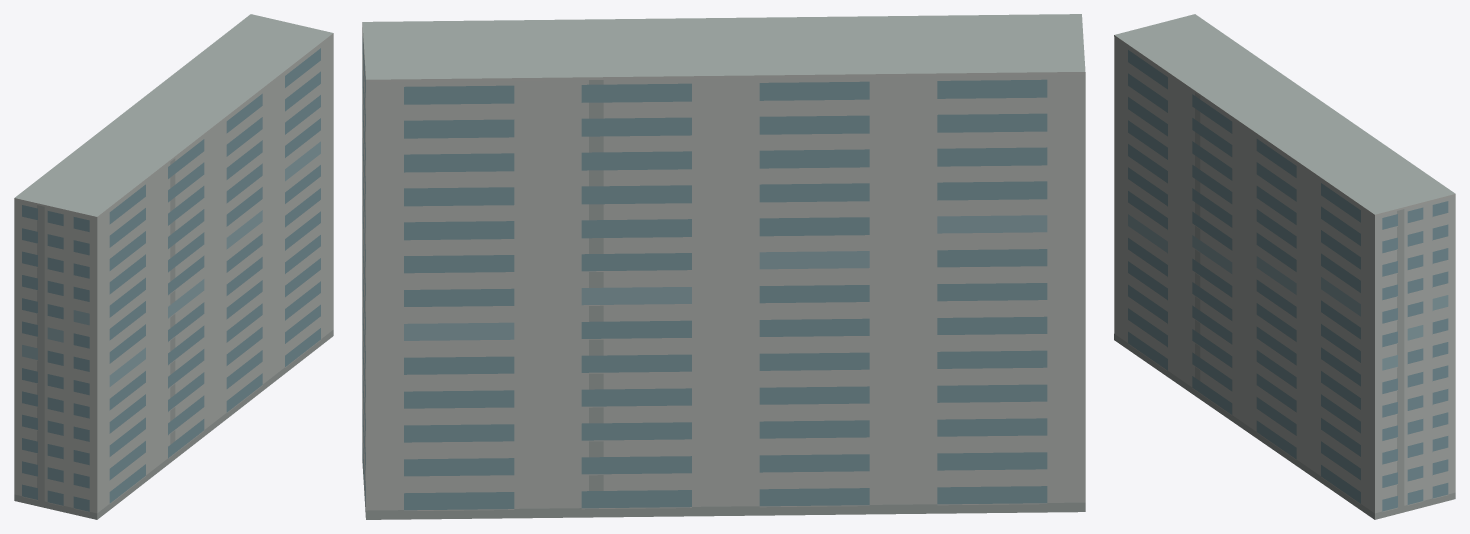
File: residential-f7edd49c-6e29-4d2b-9cfd-630c4a86aed7.glb
3 views of the same model, side by side, from view 1: azimuth 30°, elevation 25°; view 2: azimuth 150°, elevation 25°; view 3: azimuth 270°, elevation 25° (orthographic). The views are drawn at different scales.
Visible parts, largest first — view 1: residential-f7edd49c-6e29-4d2b-9cfd-630c4a86aed7.tmp; view 2: residential-f7edd49c-6e29-4d2b-9cfd-630c4a86aed7.tmp; view 3: residential-f7edd49c-6e29-4d2b-9cfd-630c4a86aed7.tmp.
Boxes of the visible parts, <box> form: residential-f7edd49c-6e29-4d2b-9cfd-630c4a86aed7.tmp: <box>14,14,333,519</box>; residential-f7edd49c-6e29-4d2b-9cfd-630c4a86aed7.tmp: <box>362,14,1085,519</box>; residential-f7edd49c-6e29-4d2b-9cfd-630c4a86aed7.tmp: <box>1114,14,1455,519</box>.
Size of the model in its own units: 55.95 by 39.65 by 40.23.
